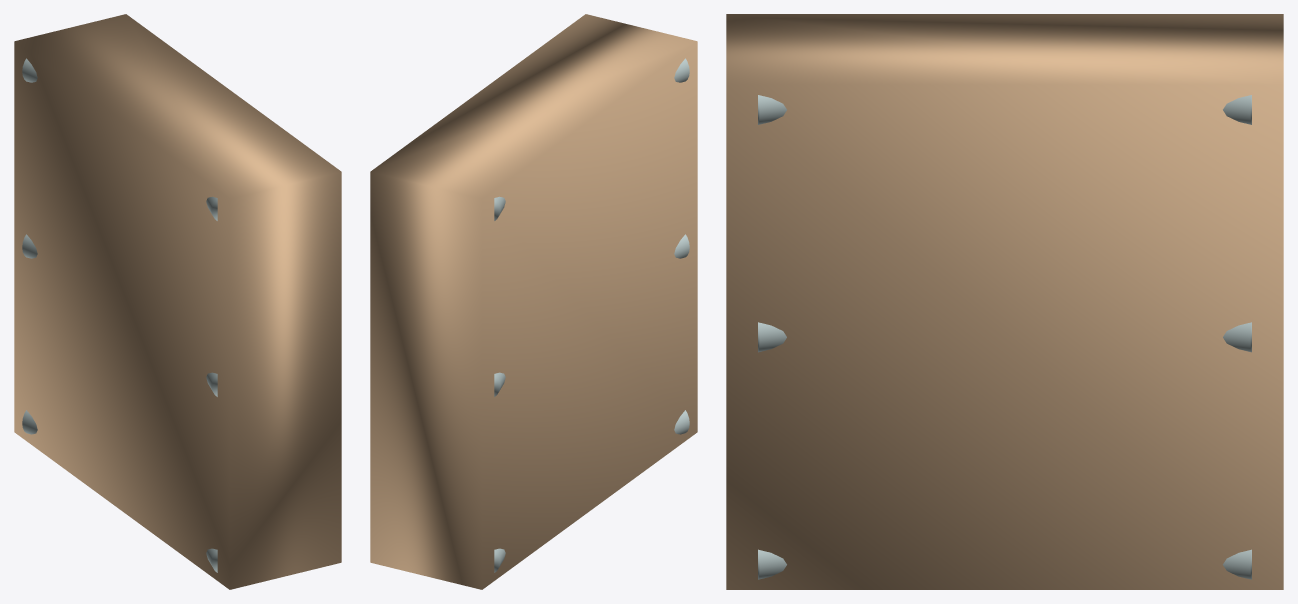
The picture shows the model from 3 angles, left to right: view 1: azimuth 30°, elevation 25°; view 2: azimuth 150°, elevation 25°; view 3: azimuth 270°, elevation 25°; orthographic projection. The views are drawn at different scales.
Visible parts, largest first — view 1: MLine_Core; view 2: MLine_Core; view 3: MLine_Core.
Boxes of the visible parts, x1=… form: MLine_Core: x1=14, y1=14, x2=341, y2=589; MLine_Core: x1=370, y1=14, x2=697, y2=589; MLine_Core: x1=726, y1=14, x2=1283, y2=589.
Bounding box in the file's own units: 0.0654 × 0.2 × 0.2.
